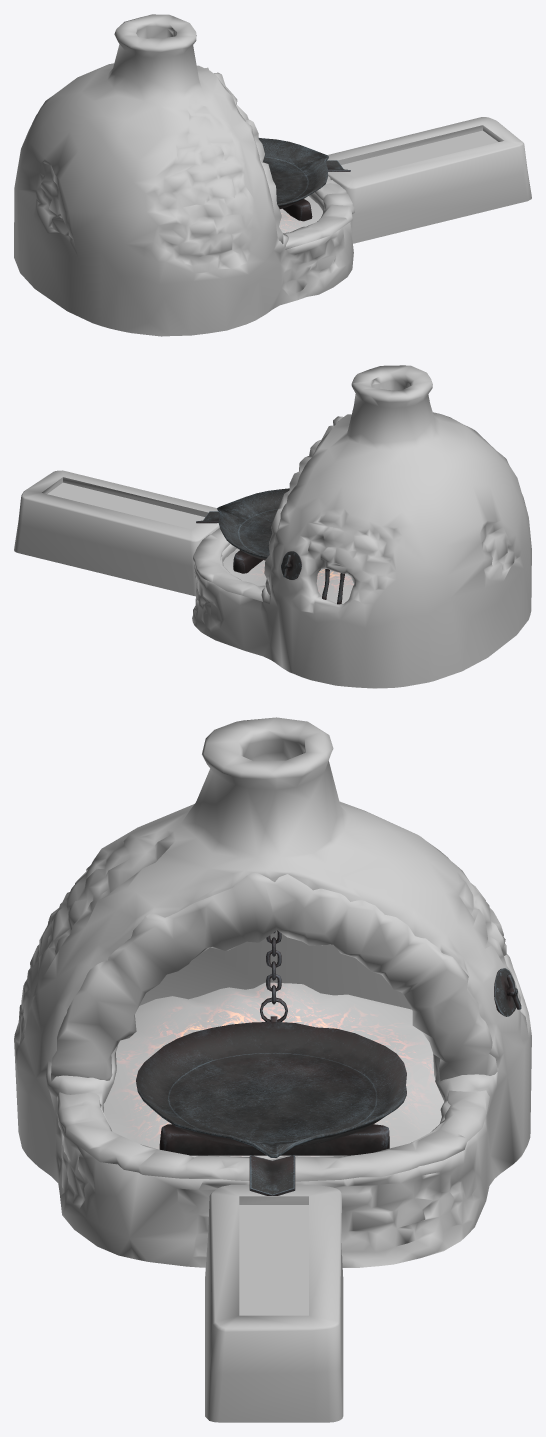
Rendered from furnace.gltf.
The picture shows the model from 3 angles, top to bottom: view 1: azimuth 30°, elevation 25°; view 2: azimuth 150°, elevation 25°; view 3: azimuth 270°, elevation 25°; orthographic projection. The views are drawn at different scales.
Visible parts, largest first — view 1: LP_rail, LP_coal; view 2: LP_rail, LP_coal; view 3: LP_rail, LP_coal.
Part boxes in pixels (bbox=[...]): LP_rail: bbox=[14, 14, 531, 336]; LP_coal: bbox=[279, 196, 322, 233]; LP_rail: bbox=[14, 365, 531, 688]; LP_coal: bbox=[223, 548, 353, 603]; LP_rail: bbox=[14, 717, 531, 1422]; LP_coal: bbox=[103, 982, 443, 1159].
Bounding box in the file's own units: 4.89 × 2.42 × 2.87.
